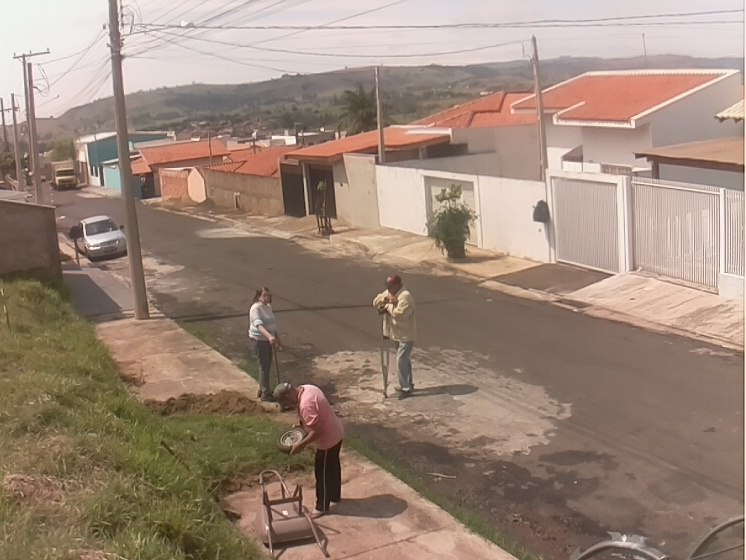person: (272, 381, 344, 518), (372, 274, 418, 396), (247, 286, 281, 401)
